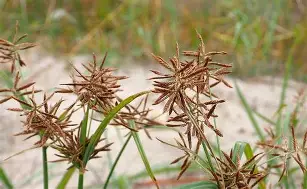weed: (0, 43, 304, 189)
